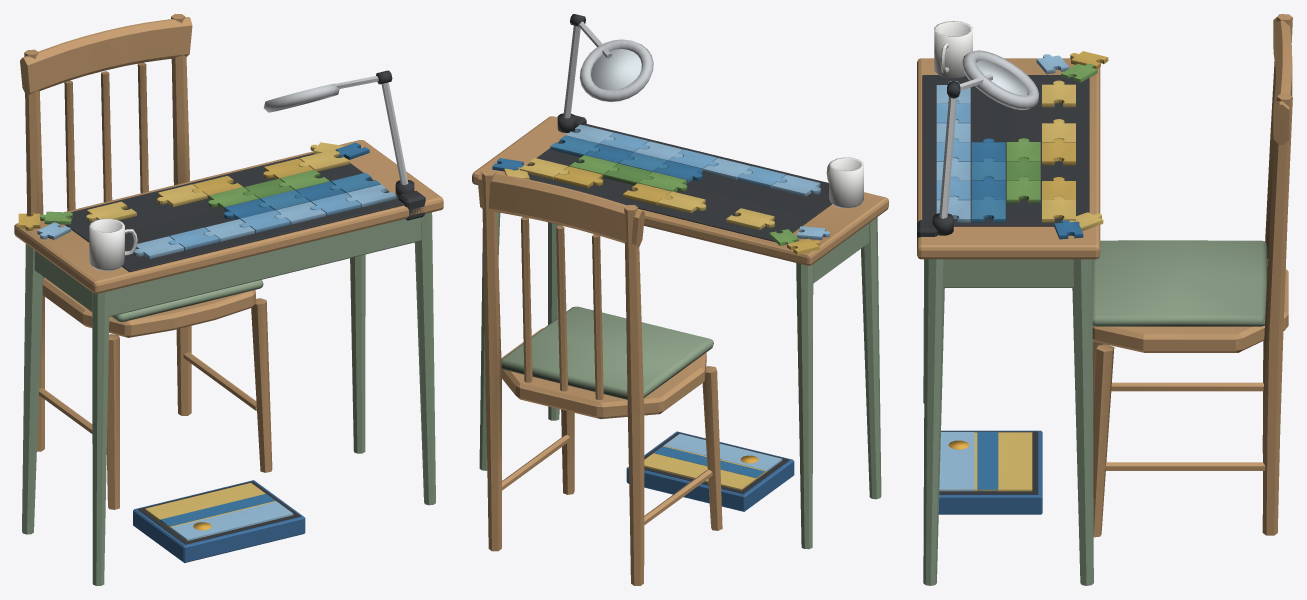
Rendered from puzzleTable.glb.
3 views of the same model, side by side, from view 1: azimuth 30°, elevation 25°; view 2: azimuth 150°, elevation 25°; view 3: azimuth 270°, elevation 25° (orthographic). The views are drawn at different scales.
Parts seen in each view (by area): view 1: body; view 2: body; view 3: body.
Part boxes in pixels (x1=…): body: x1=14, y1=14, x2=443, y2=585; body: x1=472, y1=14, x2=888, y2=585; body: x1=917, y1=14, x2=1292, y2=585.
Bounding box in the file's own units: 0.8639 × 1.01 × 0.7183.
